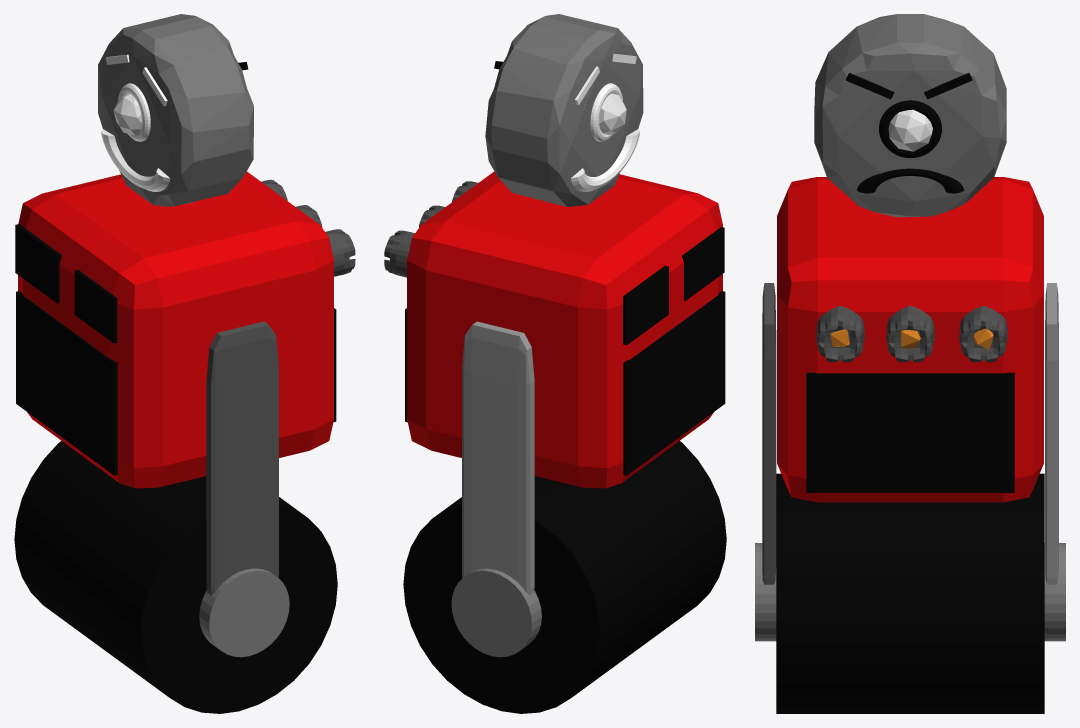
Rendered from monowheel robot.fbx.
3 views of the same model, side by side, from view 1: azimuth 30°, elevation 25°; view 2: azimuth 150°, elevation 25°; view 3: azimuth 270°, elevation 25° (orthographic). The views are drawn at different scales.
Visible parts, largest first — view 1: Cube, Cylinder.002, Cylinder, Cube.002, Cube.004, Cylinder.003, Cube.003, Cube.005, Torus.002, Gun.001, Sphere, Torus; view 2: Cube, Cylinder.002, Cylinder, Cube.001, Cube.004, Cylinder.003, Cube.003, Cube.005, Torus.002, Gun.002, Sphere, Torus; view 3: Cylinder.002, Cube, Cylinder, Cube.011, Cube.002, Cube.001, Cylinder.003, Gun.001, Gun.002, Gun, Torus.001, Sphere.001 (+2 smaller).
Boxes of the visible parts, x1=… form: Cube: x1=18, y1=171, x2=333, y2=488; Cylinder.002: x1=14, y1=441, x2=337, y2=713; Cylinder: x1=98, y1=14, x2=253, y2=206; Cube.002: x1=206, y1=321, x2=278, y2=595; Cube.004: x1=16, y1=291, x2=117, y2=475; Cylinder.003: x1=199, y1=568, x2=289, y2=657; Cube.003: x1=15, y1=224, x2=61, y2=303; Cube.005: x1=74, y1=269, x2=117, y2=343; Torus.002: x1=101, y1=129, x2=170, y2=191; Gun.001: x1=325, y1=229, x2=355, y2=276; Sphere: x1=113, y1=94, x2=141, y2=135; Torus: x1=118, y1=83, x2=150, y2=141; Cube: x1=407, y1=171, x2=722, y2=488; Cylinder.002: x1=403, y1=441, x2=726, y2=713; Cylinder: x1=485, y1=14, x2=643, y2=206; Cube.001: x1=462, y1=321, x2=534, y2=595; Cube.004: x1=623, y1=291, x2=725, y2=475; Cylinder.003: x1=451, y1=568, x2=541, y2=657; Cube.003: x1=623, y1=265, x2=668, y2=345; Cube.005: x1=682, y1=227, x2=724, y2=300; Torus.002: x1=571, y1=129, x2=639, y2=191; Gun.002: x1=384, y1=230, x2=414, y2=277; Sphere: x1=599, y1=93, x2=626, y2=134; Torus: x1=590, y1=83, x2=622, y2=141; Cylinder.002: x1=776, y1=473, x2=1044, y2=713; Cube: x1=777, y1=177, x2=1043, y2=502; Cylinder: x1=814, y1=14, x2=1006, y2=217; Cube.011: x1=806, y1=372, x2=1014, y2=492; Cube.002: x1=762, y1=283, x2=776, y2=584; Cube.001: x1=1045, y1=283, x2=1058, y2=584; Cylinder.003: x1=755, y1=543, x2=1065, y2=641; Gun.001: x1=816, y1=306, x2=864, y2=362; Gun.002: x1=959, y1=306, x2=1007, y2=362; Gun: x1=886, y1=306, x2=934, y2=362; Torus.001: x1=879, y1=100, x2=941, y2=157; Sphere.001: x1=888, y1=109, x2=932, y2=151.
Size of the model in its own units: 253 by 619 by 259.
